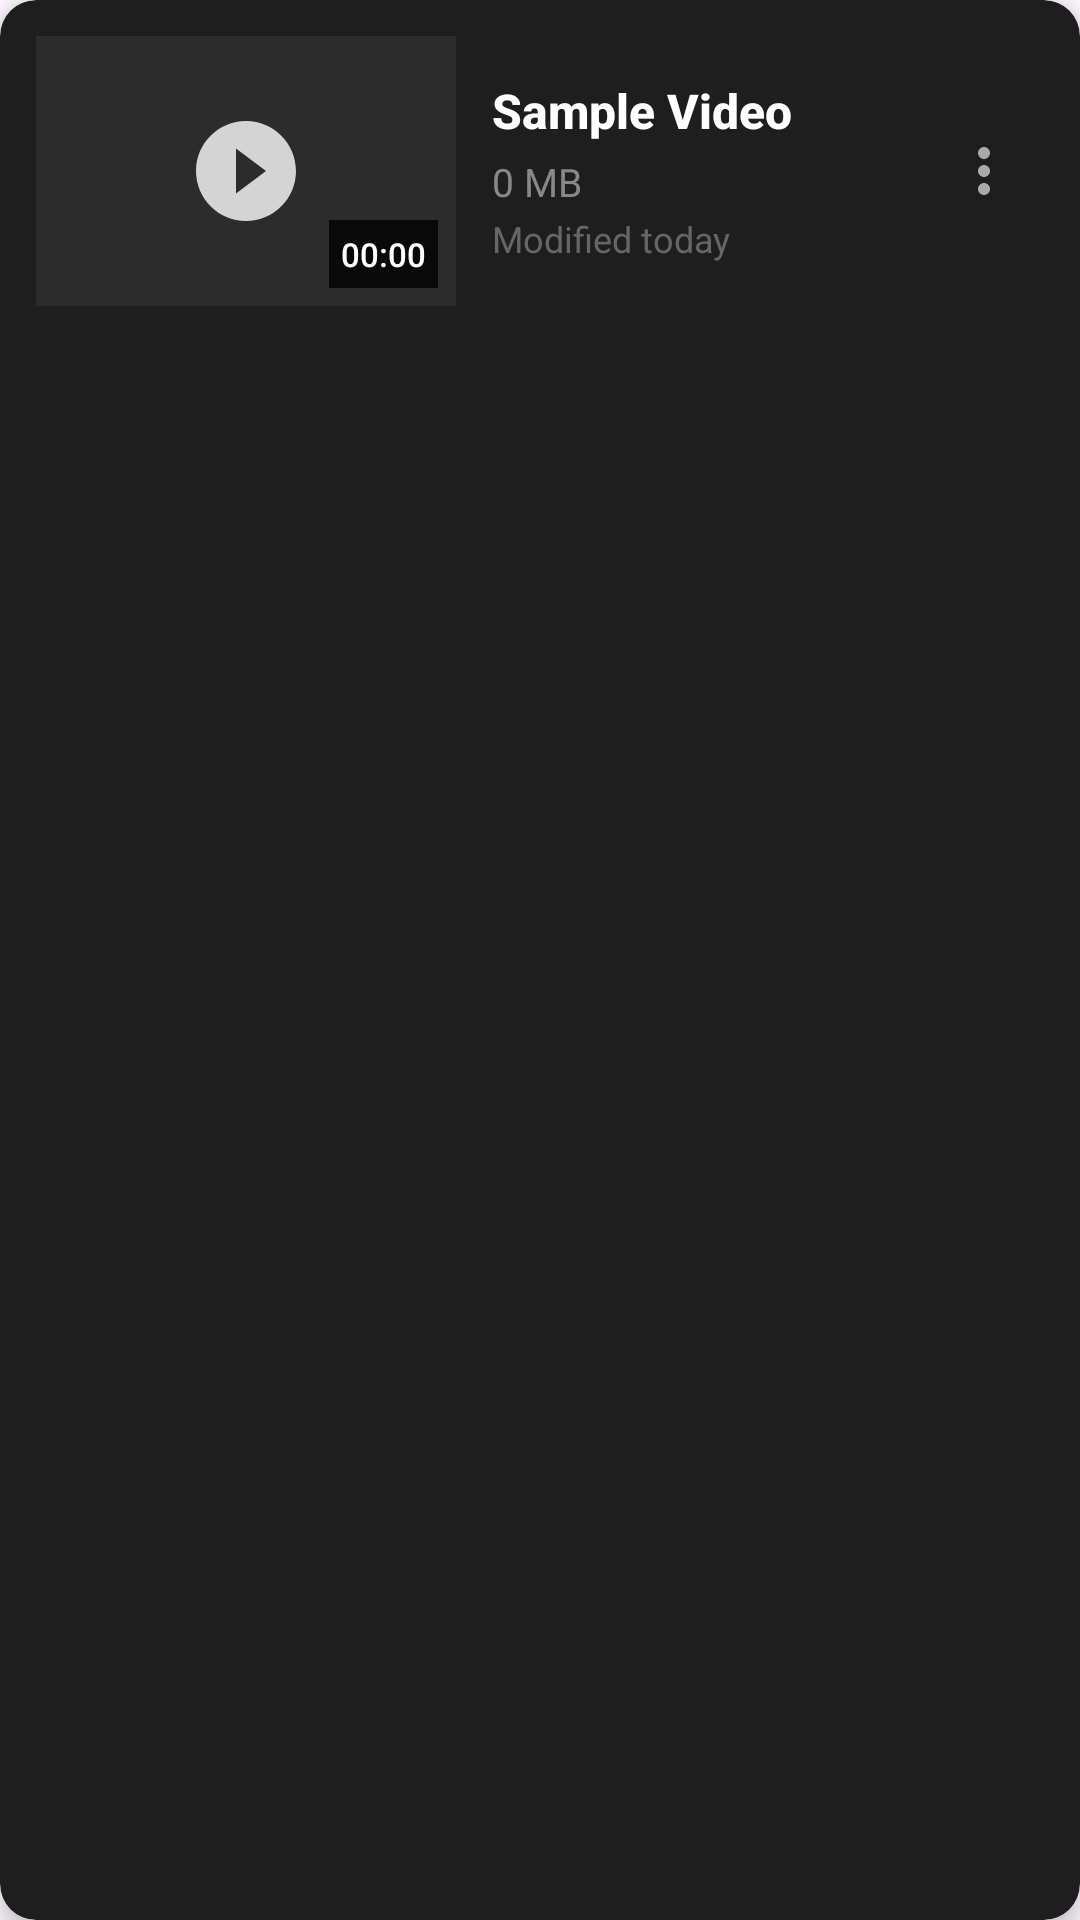

Point at icon controls on the screen. Image size 1080x1920, points as point (x, y).
More options: point (984, 171)
Play icon: point (246, 171)
